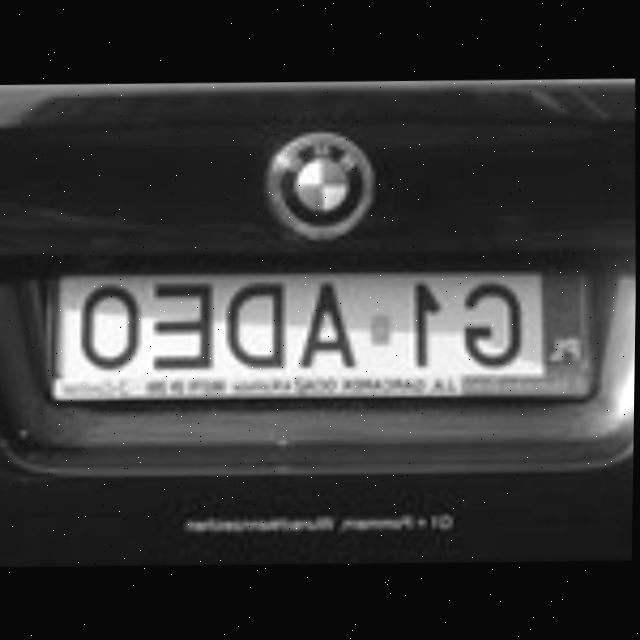license-plates: (51, 272, 590, 401)
